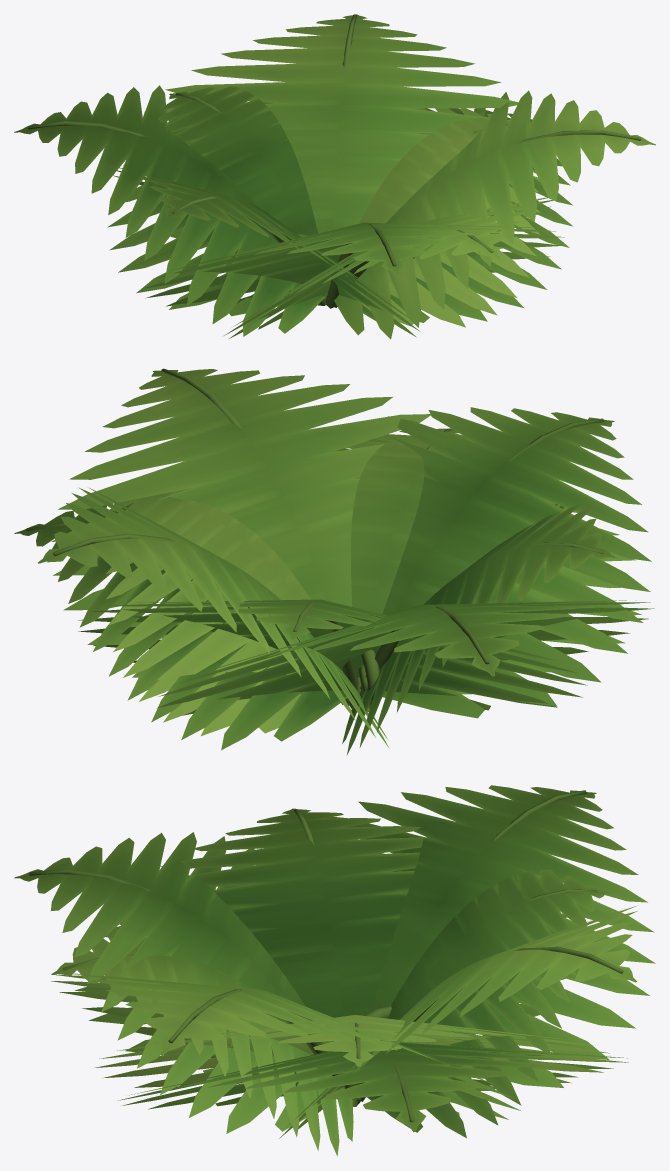
File: PLN_Ferns_Small.fbx
3 renders of one model, top to bottom at view 1: azimuth 30°, elevation 25°; view 2: azimuth 150°, elevation 25°; view 3: azimuth 270°, elevation 25°, orthographic. The views are drawn at different scales.
Visible parts, largest first — view 1: PLN_Ferns_Small; view 2: PLN_Ferns_Small; view 3: PLN_Ferns_Small.
Boxes of the visible parts, x1,y1,x2,y2 form: PLN_Ferns_Small: [14, 14, 655, 339]; PLN_Ferns_Small: [14, 368, 654, 755]; PLN_Ferns_Small: [14, 785, 655, 1156].
Size of the model in its own units: 0.4882 by 0.177 by 0.4741.
